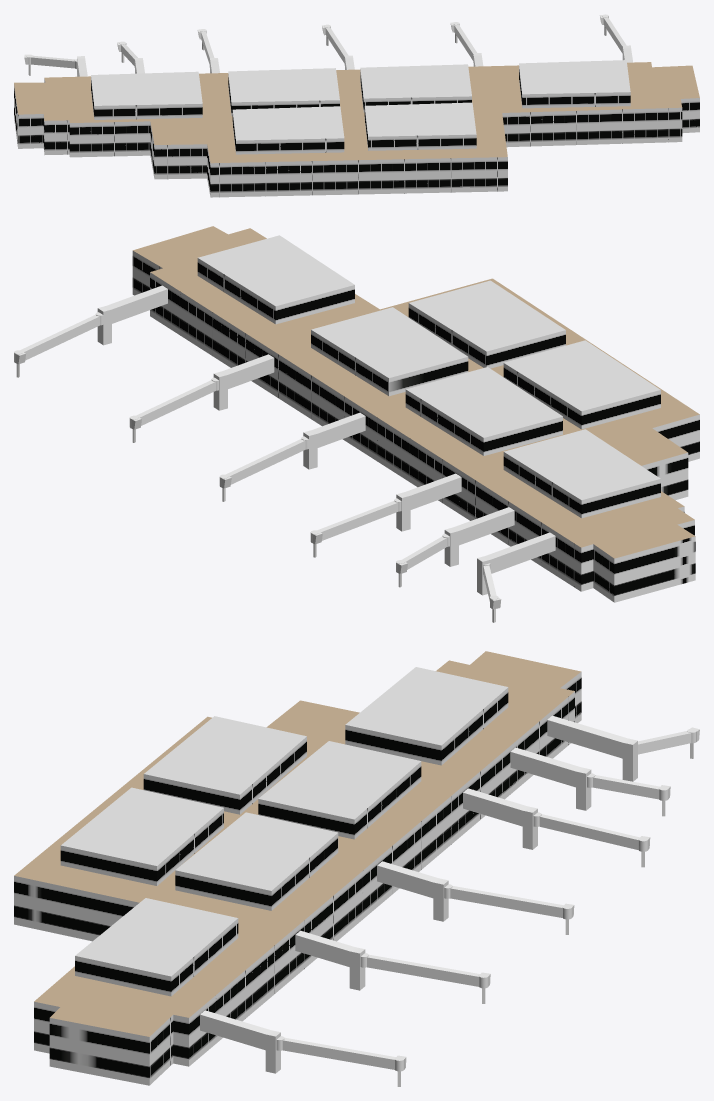
File: ACEAirport.glb
3 renders of one model, top to bottom at view 1: azimuth 30°, elevation 25°; view 2: azimuth 150°, elevation 25°; view 3: azimuth 270°, elevation 25°, orthographic. The views are drawn at different scales.
Parts seen in each view (by area): view 1: Buffer Object 34, Merged Objects 7, Buffer Object 35, Merged Objects 6, Buffer Object 41, Buffer Object 36, Buffer Object 38, Buffer Object 37, Buffer Object 40, Buffer Object 39; view 2: Merged Objects 7, Buffer Object 35, Buffer Object 34, Merged Objects 6, Buffer Object 36, Buffer Object 39, Buffer Object 38, Buffer Object 37, Buffer Object 40, Buffer Object 41; view 3: Merged Objects 7, Buffer Object 35, Buffer Object 34, Merged Objects 6, Buffer Object 36, Buffer Object 38, Buffer Object 37, Buffer Object 39, Buffer Object 40, Buffer Object 41.
Boxes of the visible parts, <box> form: Buffer Object 34: <box>14,78,699,197</box>; Merged Objects 7: <box>91,60,630,140</box>; Buffer Object 35: <box>14,62,699,163</box>; Merged Objects 6: <box>91,66,630,154</box>; Buffer Object 41: <box>24,54,87,76</box>; Buffer Object 36: <box>599,14,633,62</box>; Buffer Object 38: <box>322,24,354,69</box>; Buffer Object 37: <box>450,22,483,66</box>; Buffer Object 40: <box>117,41,144,73</box>; Buffer Object 39: <box>197,29,219,73</box>; Merged Objects 7: <box>198,235,660,500</box>; Buffer Object 35: <box>133,226,699,558</box>; Buffer Object 34: <box>132,251,699,602</box>; Merged Objects 6: <box>197,258,660,518</box>; Buffer Object 36: <box>14,285,167,377</box>; Buffer Object 39: <box>310,473,461,557</box>; Buffer Object 38: <box>219,412,365,501</box>; Buffer Object 37: <box>129,354,274,442</box>; Buffer Object 40: <box>396,507,514,587</box>; Buffer Object 41: <box>477,532,555,622</box>; Merged Objects 7: <box>61,667,507,976</box>; Buffer Object 35: <box>14,651,581,1036</box>; Buffer Object 34: <box>14,672,581,1085</box>; Merged Objects 6: <box>60,687,508,996</box>; Buffer Object 36: <box>200,1010,406,1086</box>; Buffer Object 38: <box>377,861,574,934</box>; Buffer Object 37: <box>295,930,490,1003</box>; Buffer Object 39: <box>463,788,650,867</box>; Buffer Object 40: <box>510,747,670,816</box>; Buffer Object 41: <box>547,715,699,781</box>.
Bounding box in the file's own units: 291 × 24.02 × 217.
9 materials, 1 textured.
